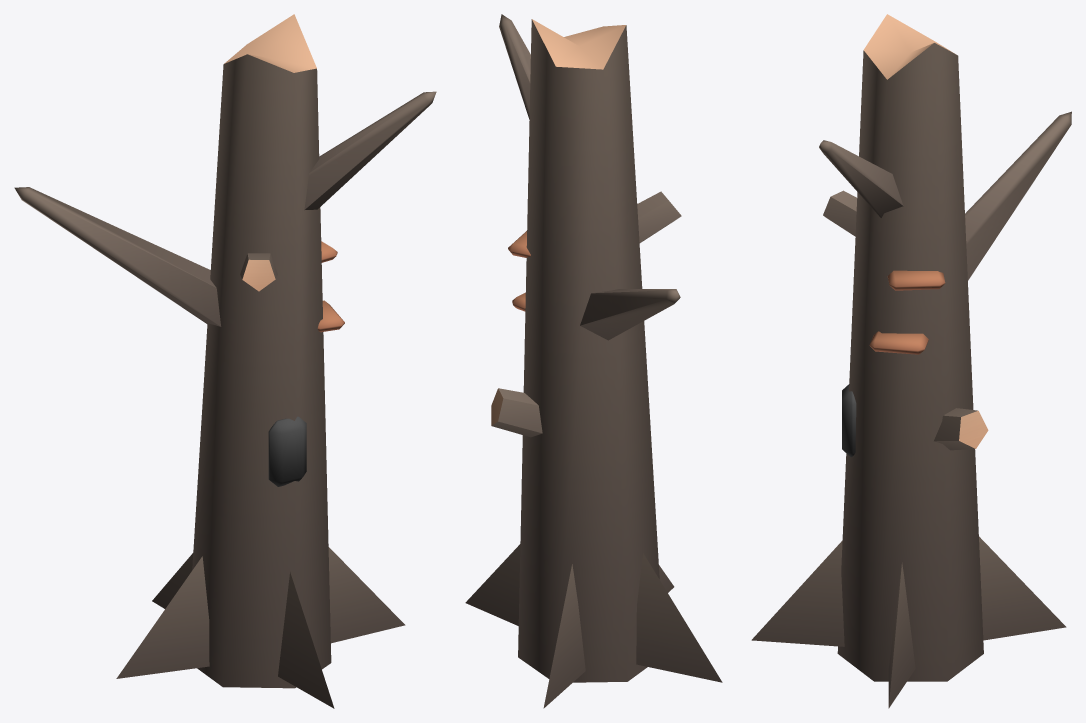
File: tree_dead_B.fbx
3 views of the same model, side by side, from view 1: azimuth 30°, elevation 25°; view 2: azimuth 150°, elevation 25°; view 3: azimuth 270°, elevation 25° (orthographic).
Visible parts, largest first — view 1: tree_dead_B; view 2: tree_dead_B; view 3: tree_dead_B.
Part boxes in pixels (box(x1,y1,x2,y2)): tree_dead_B: box(14, 14, 436, 708); tree_dead_B: box(465, 14, 722, 708); tree_dead_B: box(751, 14, 1071, 708).
Bounding box in the file's own units: 0.8154 × 1.63 × 0.7457.
1 material, 1 textured.
